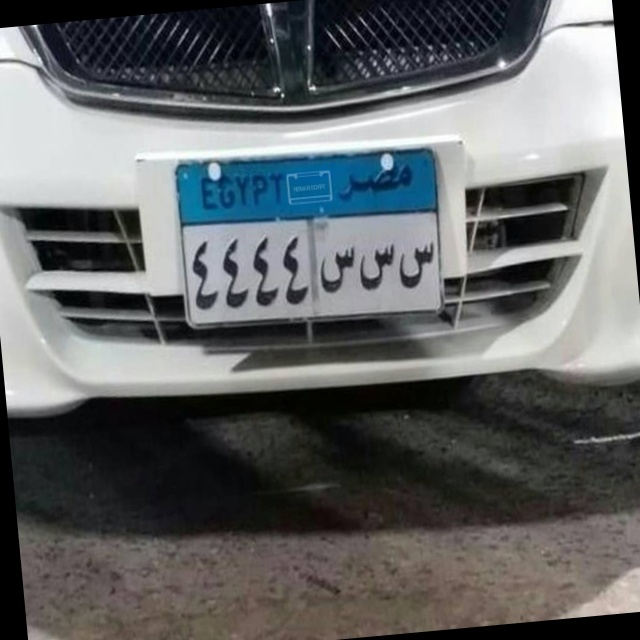License Plate: (168, 128, 455, 347)
